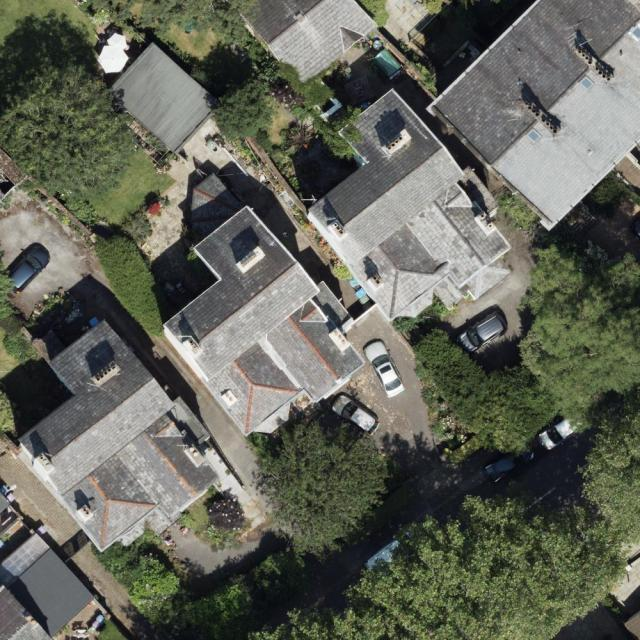roof: (164, 175, 366, 435), (428, 0, 640, 231), (307, 89, 511, 323), (17, 321, 220, 550), (101, 41, 225, 159), (240, 0, 381, 88), (0, 530, 95, 640)
skylight: (625, 20, 640, 46), (524, 127, 543, 146), (579, 74, 596, 90)
